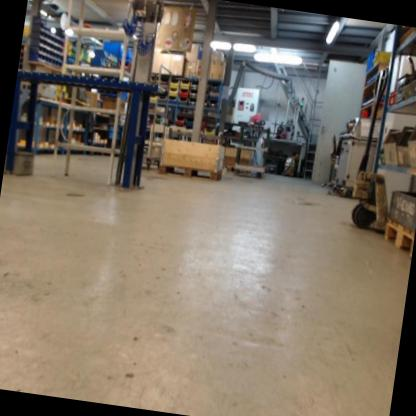pallet: (156, 160, 222, 184), (380, 216, 416, 259)
pallet_truck: (342, 59, 411, 238)
